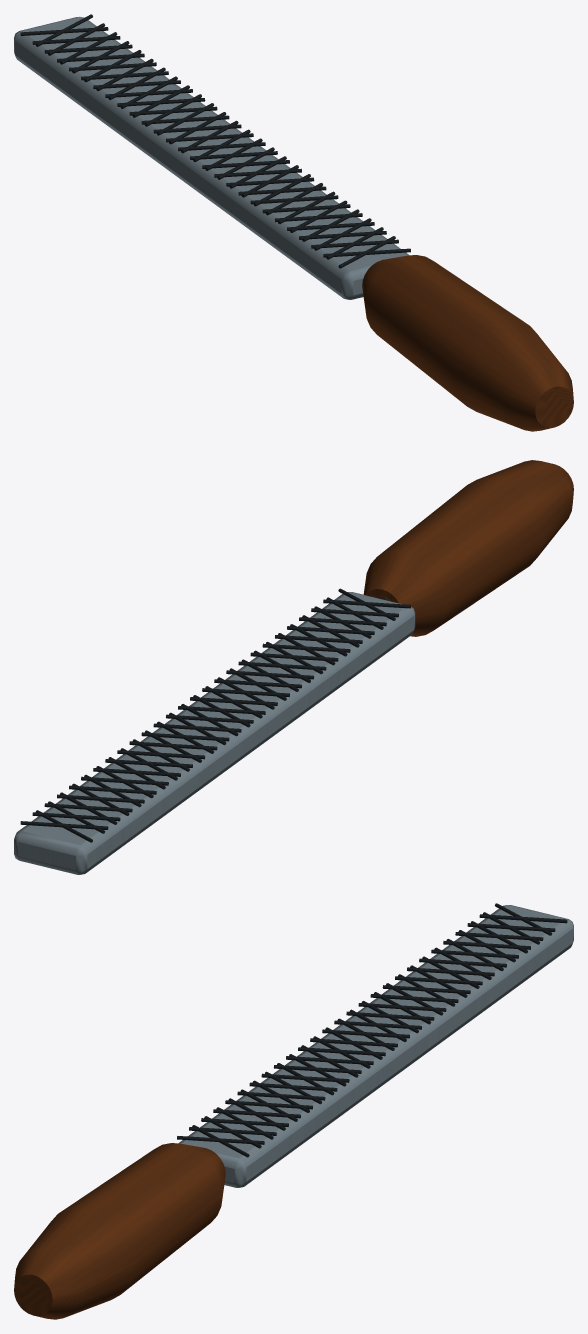
File: BladeFile.gltf
3 renders of one model, top to bottom at view 1: azimuth 30°, elevation 25°; view 2: azimuth 150°, elevation 25°; view 3: azimuth 330°, elevation 25°, orthographic.
Visible parts, largest first — view 1: BladeFile__Body; view 2: BladeFile__Body; view 3: BladeFile__Body.
Boxes of the visible parts, bbox=[...] form: BladeFile__Body: bbox=[14, 14, 573, 431]; BladeFile__Body: bbox=[14, 460, 573, 874]; BladeFile__Body: bbox=[14, 903, 573, 1319].
Size of the model in its own units: 0.0308 by 0.0308 by 0.3052.
Materials: 1 (1 with a texture image).
